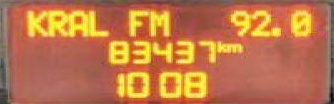-: (269, 25, 284, 38)
0: (285, 8, 314, 35), (156, 71, 181, 99), (124, 69, 147, 98)
1: (114, 72, 122, 98)
2: (249, 7, 269, 37)
3: (129, 38, 150, 64), (174, 39, 192, 64)
4: (151, 39, 171, 64)
7: (196, 38, 216, 63)
8: (182, 69, 206, 96), (107, 38, 129, 64)
9: (229, 7, 250, 37)
X: (24, 6, 45, 39), (87, 9, 111, 36), (126, 7, 146, 37), (46, 8, 66, 37), (147, 9, 169, 35), (67, 9, 86, 36), (226, 42, 242, 53), (214, 39, 225, 51)
